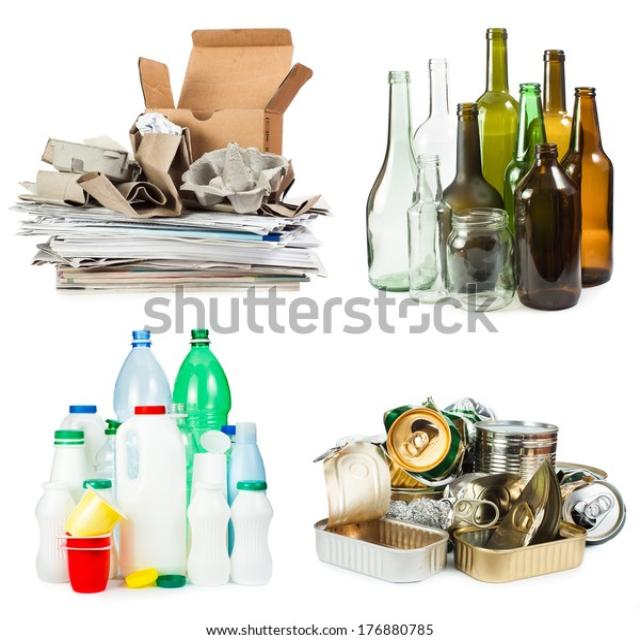cardboard: (37, 58, 306, 289)
glass: (382, 49, 605, 308)
metal: (354, 388, 586, 570)
plastic: (36, 347, 274, 589)
